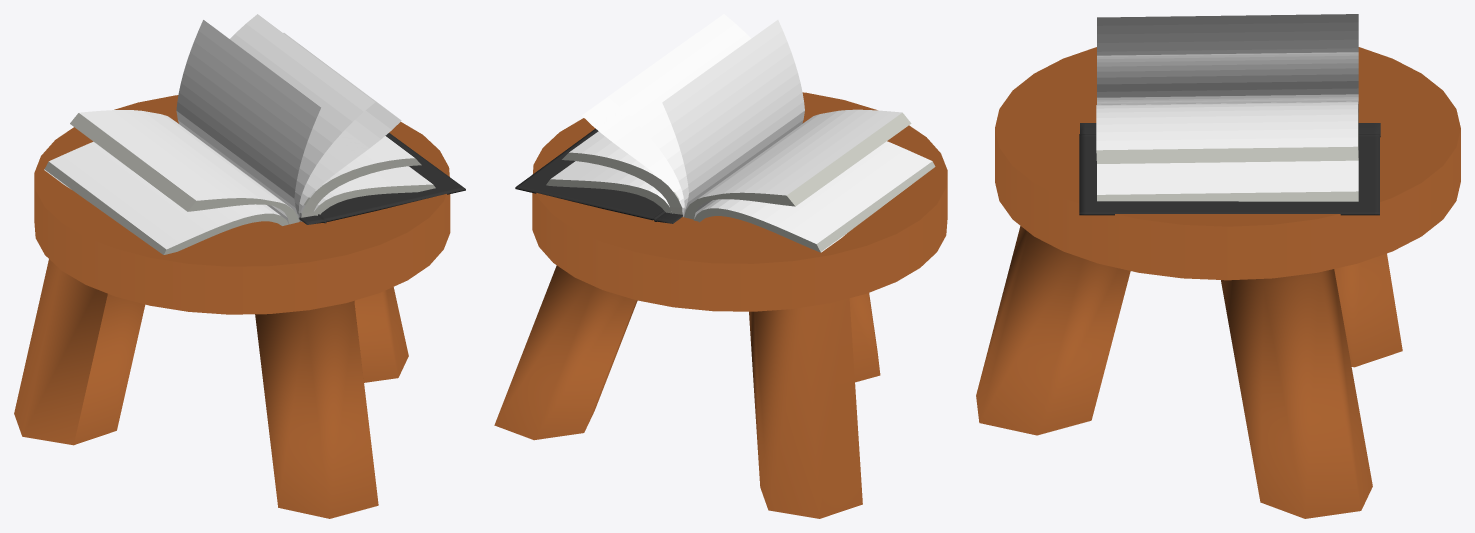
Rendered from education_gltf.glb.
3 renders of one model, left to right at view 1: azimuth 30°, elevation 25°; view 2: azimuth 150°, elevation 25°; view 3: azimuth 270°, elevation 25°, orthographic. The views are drawn at different scales.
Parts seen in each view (by area): view 1: Cylinder.003, BezierCurve, Cube; view 2: Cylinder.003, BezierCurve, Cube; view 3: Cylinder.003, BezierCurve, Cube.
Boxes of the visible parts, <box> form: Cylinder.003: <box>14,95,450,518</box>; BezierCurve: <box>44,14,435,254</box>; Cube: <box>299,133,465,224</box>; Cylinder.003: <box>494,92,947,518</box>; BezierCurve: <box>546,14,935,252</box>; Cube: <box>515,128,682,223</box>; Cylinder.003: <box>976,47,1460,518</box>; BezierCurve: <box>1096,14,1358,201</box>; Cube: <box>1079,123,1380,215</box>.
Bounding box in the file's own units: 2.11 × 1.92 × 2.08.
